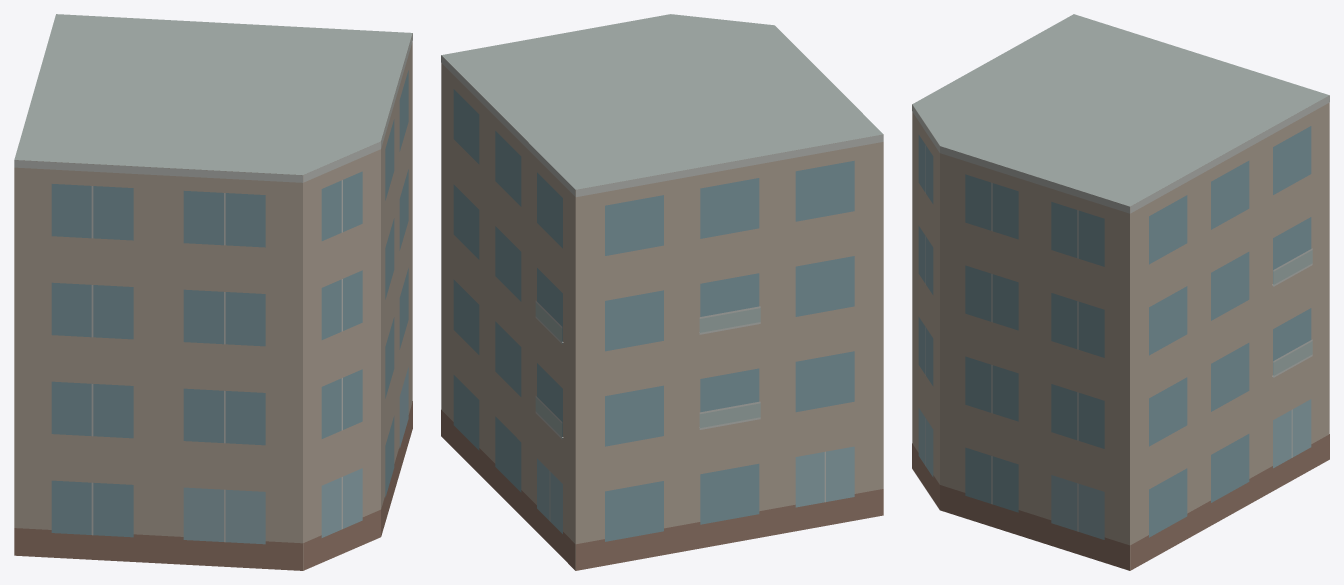
Rendered from survey-upis-32916362.glb.
3 renders of one model, left to right at view 1: azimuth 30°, elevation 25°; view 2: azimuth 150°, elevation 25°; view 3: azimuth 270°, elevation 25°, orthographic. The views are drawn at different scales.
Parts seen in each view (by area): view 1: survey-upis-32916362.tmp; view 2: survey-upis-32916362.tmp; view 3: survey-upis-32916362.tmp.
Boxes of the visible parts, <box> form: survey-upis-32916362.tmp: <box>14,14,412,570</box>; survey-upis-32916362.tmp: <box>441,14,883,570</box>; survey-upis-32916362.tmp: <box>912,14,1329,570</box>.
Size of the model in its own units: 14.19 by 12.5 by 13.
